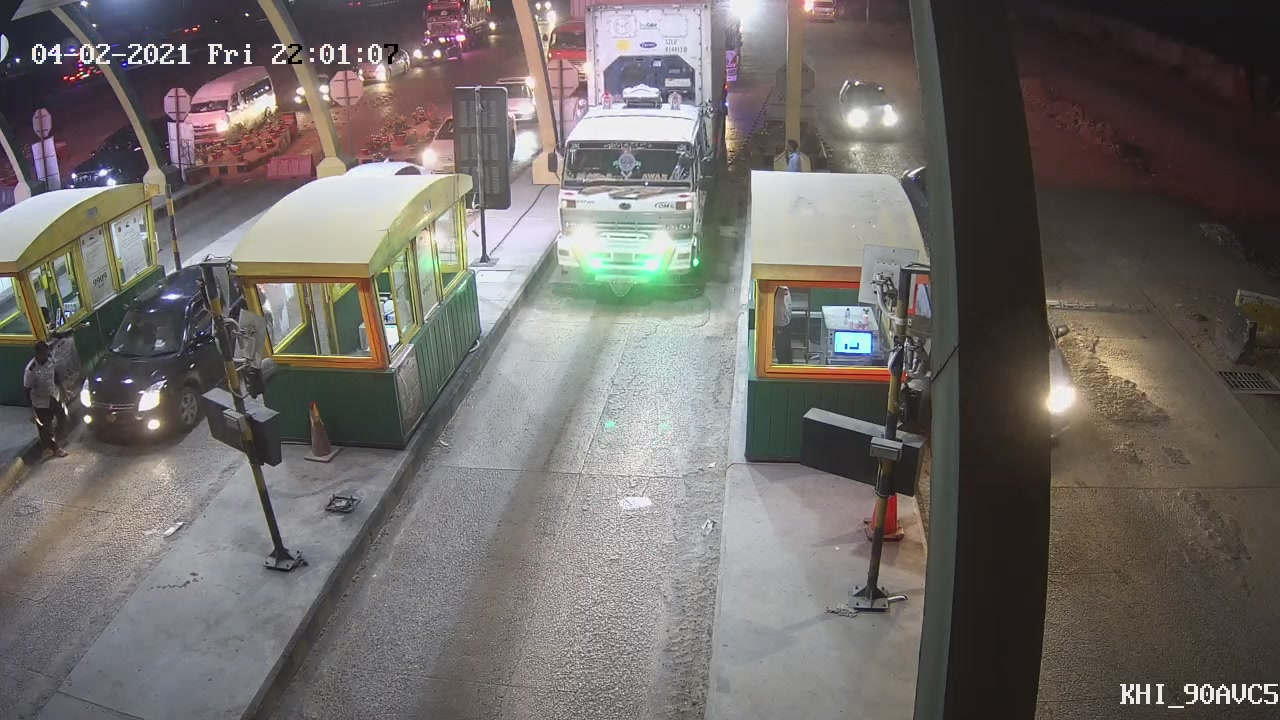F6: (541, 24, 728, 304)
